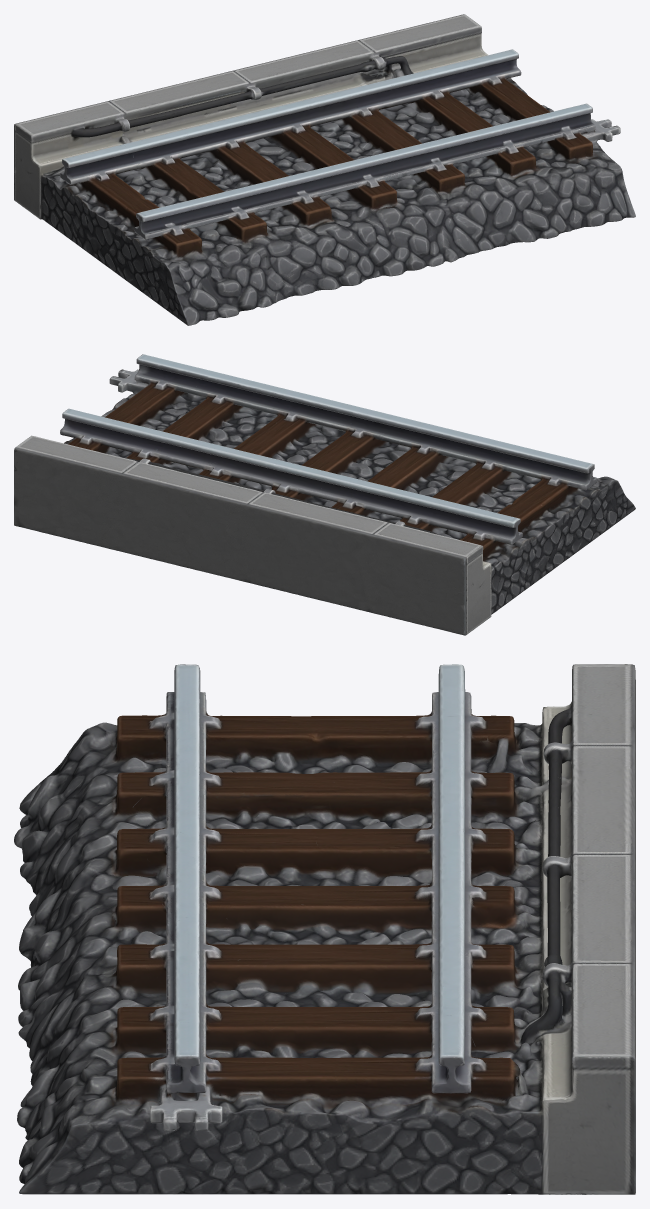
File: railway_track_segment.glb
3 views of the same model, one above another, from view 1: azimuth 30°, elevation 25°; view 2: azimuth 150°, elevation 25°; view 3: azimuth 270°, elevation 25° (orthographic). The views are drawn at different scales.
Size of the model in its own units: 1.9 by 0.2968 by 1.21.
1 material, 1 textured.
